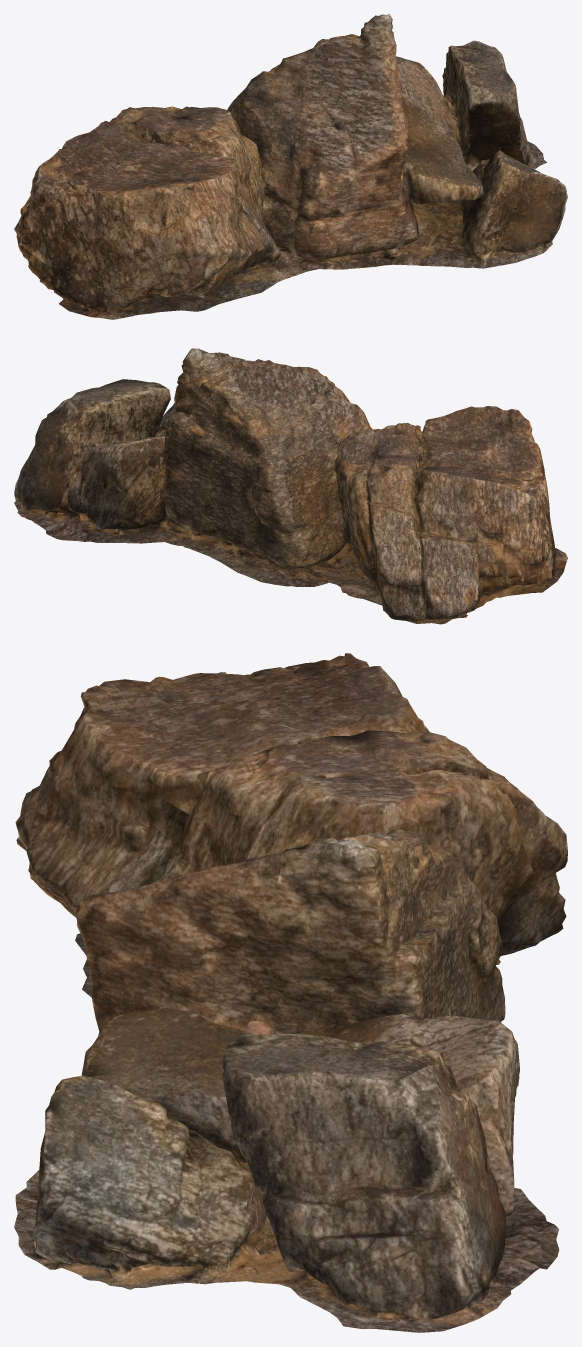
Rendered from namaqualand_boulder_02.glb.
3 views of the same model, one above another, from view 1: azimuth 30°, elevation 25°; view 2: azimuth 150°, elevation 25°; view 3: azimuth 270°, elevation 25° (orthographic). The views are drawn at different scales.
Visible parts, largest first — view 1: boulder_02; view 2: boulder_02; view 3: boulder_02.
Part boxes in pixels (bbox=[...]): boulder_02: bbox=[14, 14, 567, 319]; boulder_02: bbox=[14, 348, 567, 624]; boulder_02: bbox=[14, 653, 567, 1332].
Size of the model in its own units: 2.53 by 0.8826 by 1.23.
1 material, 1 textured.
